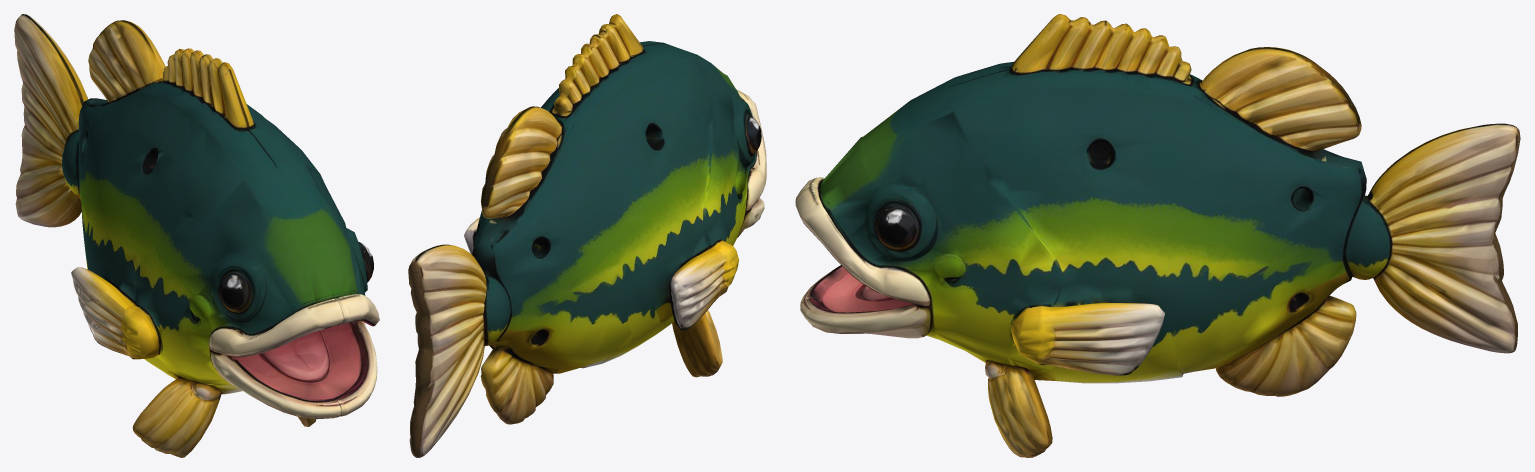
File: billy-bass.glb
The picture shows the model from 3 angles, left to right: view 1: azimuth 30°, elevation 25°; view 2: azimuth 150°, elevation 25°; view 3: azimuth 270°, elevation 25°; orthographic projection. The views are drawn at different scales.
Parts seen in each view (by area): view 1: node_0; view 2: node_0; view 3: node_0.
Boxes of the visible parts, x1,y1,x2,y2 form: node_0: (14, 14, 379, 457); node_0: (408, 14, 766, 457); node_0: (795, 14, 1520, 457).
Size of the model in its own units: 0.458 by 0.6995 by 1.13.
Materials: 1 (1 with a texture image).
